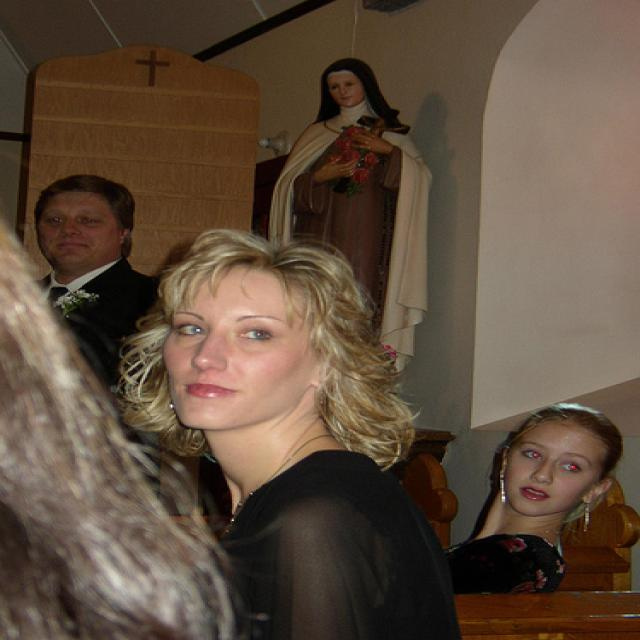person: (105, 221, 479, 640), (431, 394, 624, 597), (27, 162, 168, 385)
